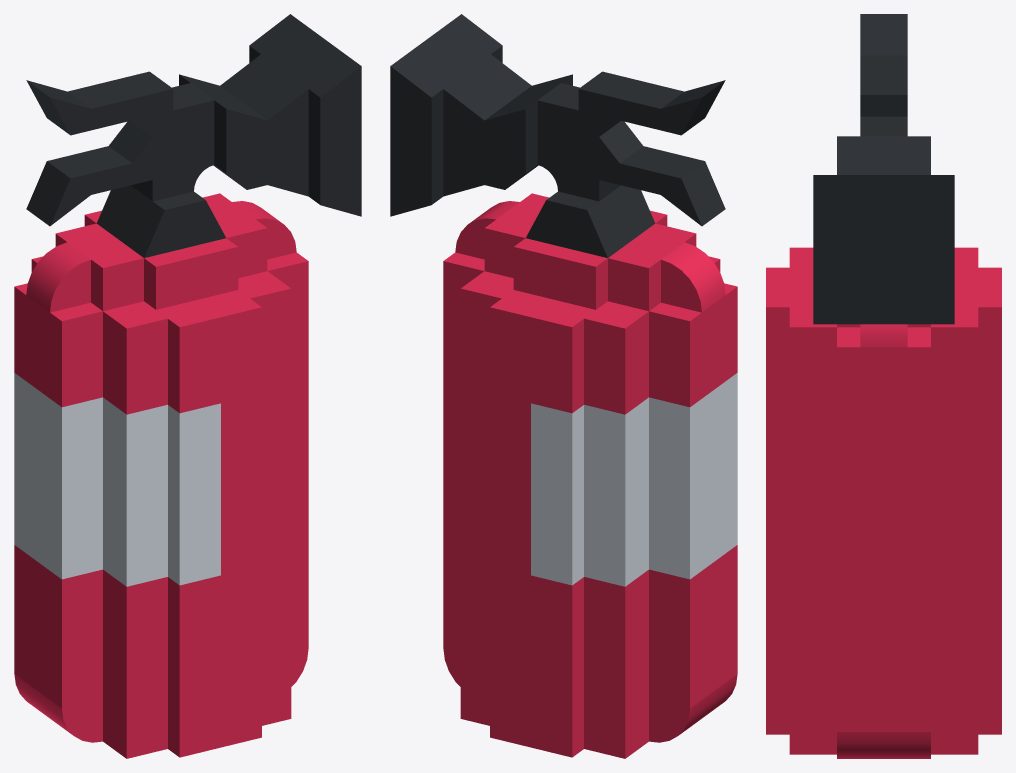
File: extincteur.glb
3 views of the same model, side by side, from view 1: azimuth 30°, elevation 25°; view 2: azimuth 150°, elevation 25°; view 3: azimuth 270°, elevation 25° (orthographic).
Visible parts, largest first — view 1: generated(Clone); view 2: generated(Clone); view 3: generated(Clone).
Boxes of the visible parts, x1=… form: generated(Clone): x1=14, y1=14, x2=361, y2=758; generated(Clone): x1=390, y1=14, x2=737, y2=758; generated(Clone): x1=766, y1=14, x2=1001, y2=758.
Size of the model in its own units: 7 by 15 by 5.
1 material, 1 textured.
